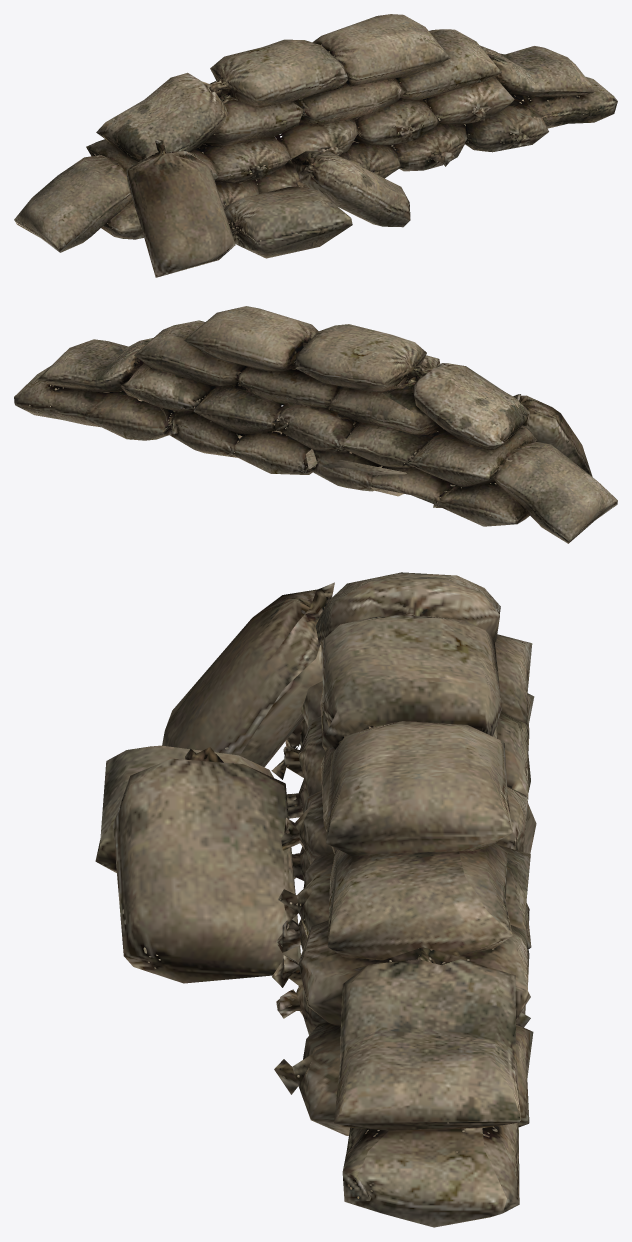
Rendered from sandbags_02.obj.
3 renders of one model, top to bottom at view 1: azimuth 30°, elevation 25°; view 2: azimuth 150°, elevation 25°; view 3: azimuth 270°, elevation 25°, orthographic. The views are drawn at different scales.
Visible parts, largest first — view 1: sandbags_02:Mesh; view 2: sandbags_02:Mesh; view 3: sandbags_02:Mesh.
Boxes of the visible parts, x1,y1,x2,y2 form: sandbags_02:Mesh: (14,14,617,277); sandbags_02:Mesh: (14,306,617,543); sandbags_02:Mesh: (95,572,536,1227).
Size of the model in its own units: 8.66 by 2.07 by 2.93.
Materials: 1 (1 with a texture image).
